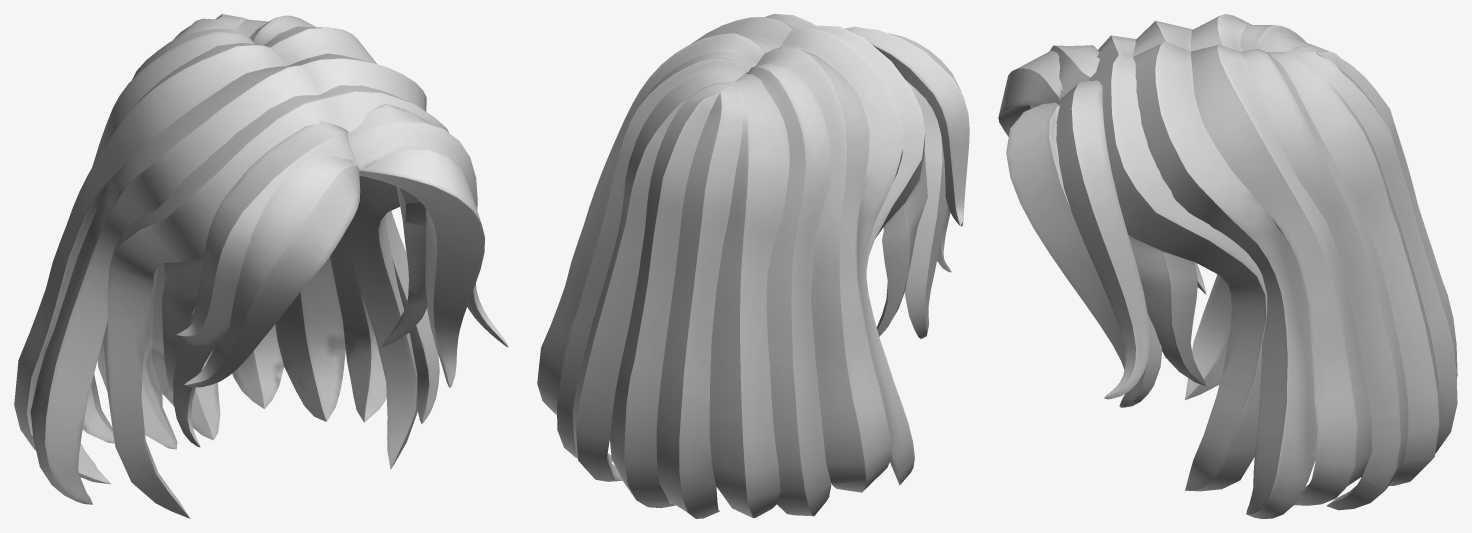
Rendered from hair_02.glb.
The picture shows the model from 3 angles, left to right: view 1: azimuth 30°, elevation 25°; view 2: azimuth 150°, elevation 25°; view 3: azimuth 270°, elevation 25°; orthographic projection. The views are drawn at different scales.
Parts seen in each view (by area): view 1: hair_02; view 2: hair_02; view 3: hair_02.
Boxes of the visible parts, x1,y1,x2,y2 form: hair_02: (14, 14, 508, 518); hair_02: (537, 14, 969, 518); hair_02: (998, 14, 1457, 518).
Bounding box in the file's own units: 0.2447 × 0.278 × 0.2677.
1 material, 1 textured.
